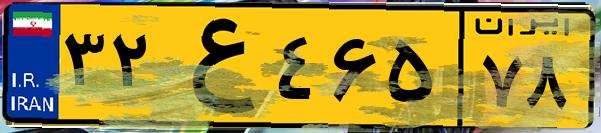2: (110, 28, 158, 98)
3: (57, 26, 110, 100)
4: (270, 28, 330, 110)
5: (385, 28, 445, 110)
6: (330, 28, 385, 110)
7: (475, 38, 525, 113)
8: (525, 38, 570, 115)
ع: (158, 12, 270, 120)
